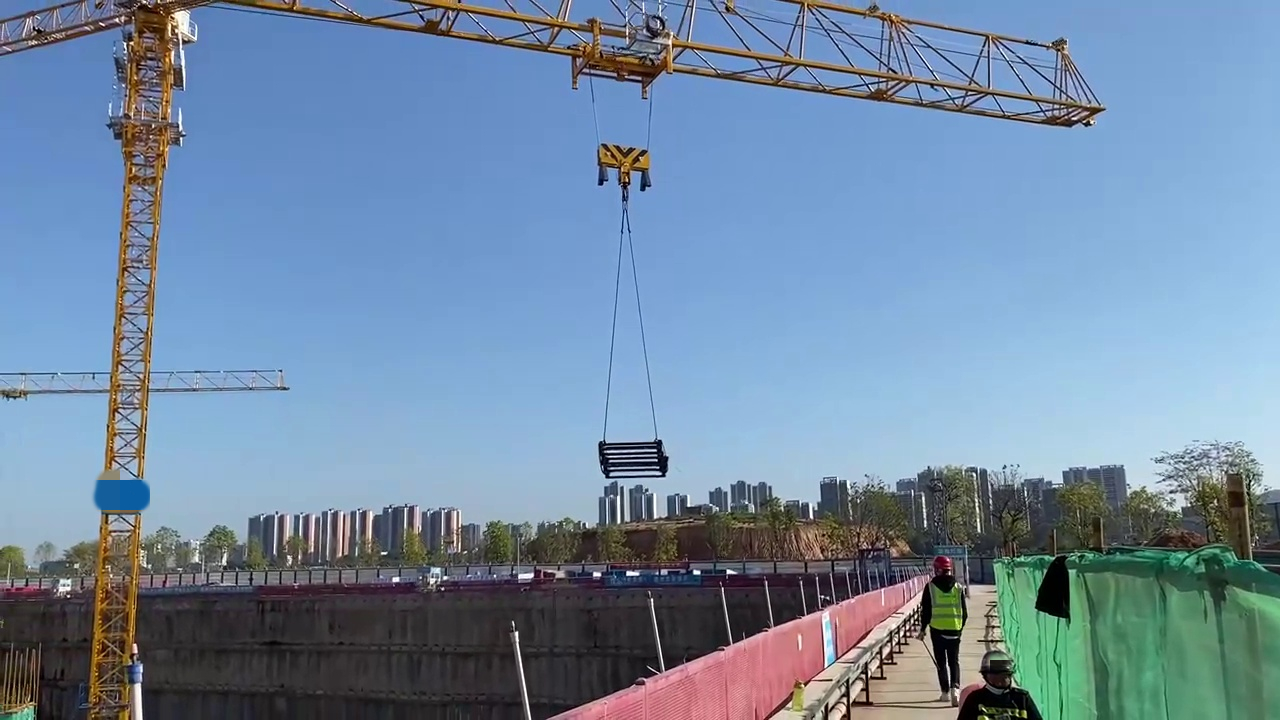fence: (535, 583, 919, 718)
helmet: (983, 652, 1017, 673), (934, 556, 951, 570)
hook: (596, 140, 651, 186)
person: (921, 556, 960, 691), (963, 648, 1035, 720)
vest: (926, 582, 964, 634)
